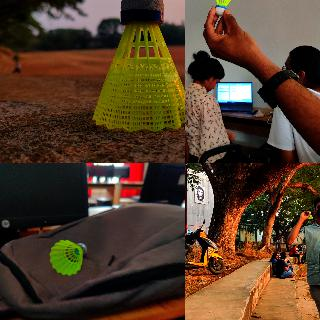shuttlecock: (91, 0, 184, 131), (48, 240, 86, 274), (213, 0, 242, 17), (308, 212, 312, 218)
